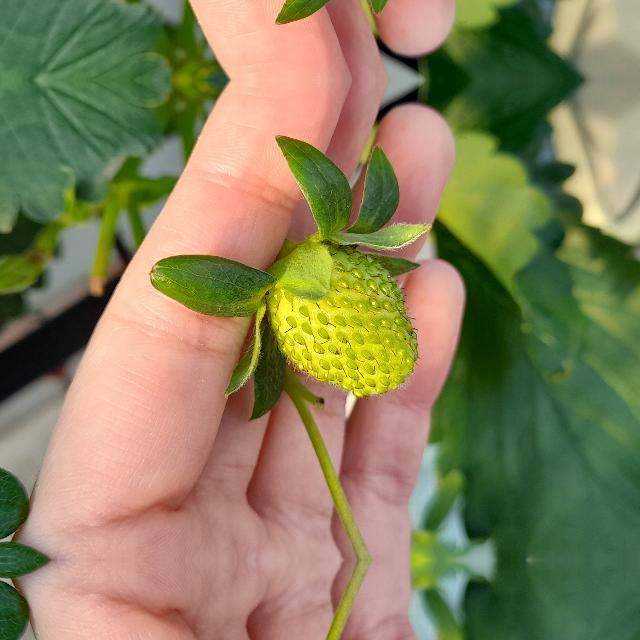Health_25: (266, 245, 422, 399)
